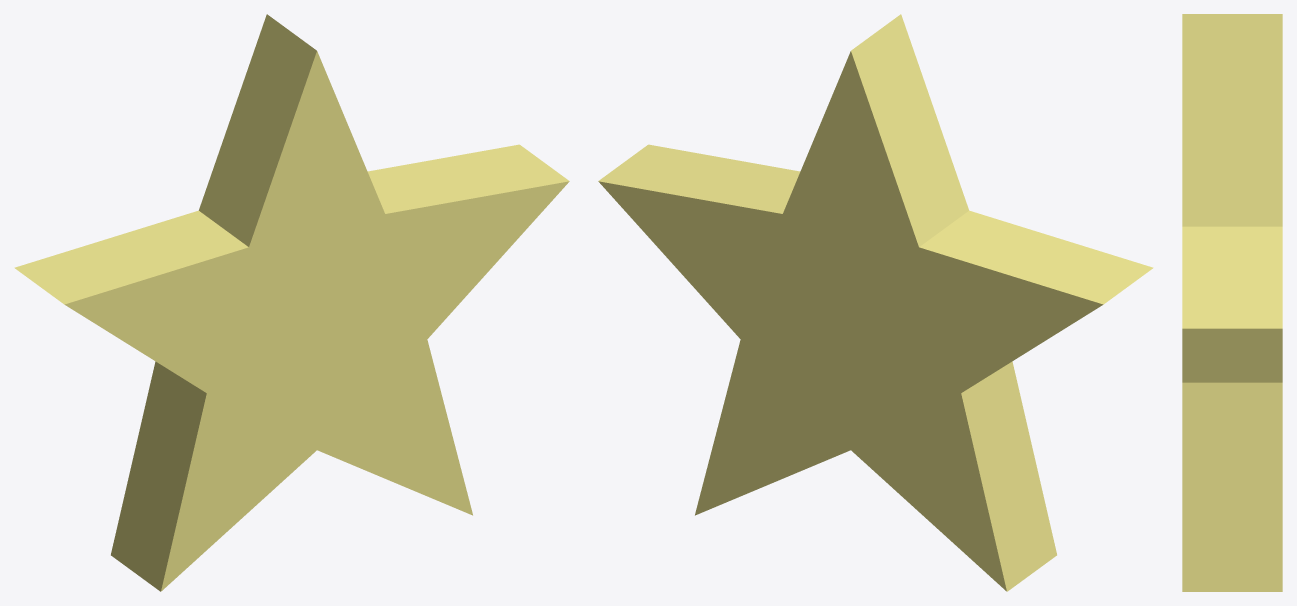
The model's file is star.gltf.
3 views of the same model, side by side, from view 1: azimuth 30°, elevation 25°; view 2: azimuth 150°, elevation 25°; view 3: azimuth 270°, elevation 25° (orthographic).
Parts seen in each view (by area): view 1: star; view 2: star; view 3: star.
Part boxes in pixels (bbox=[...]): star: bbox=[14, 14, 569, 591]; star: bbox=[598, 14, 1153, 591]; star: bbox=[1182, 14, 1282, 591].
Size of the model in its own units: 1.05 by 0.995 by 0.18.
